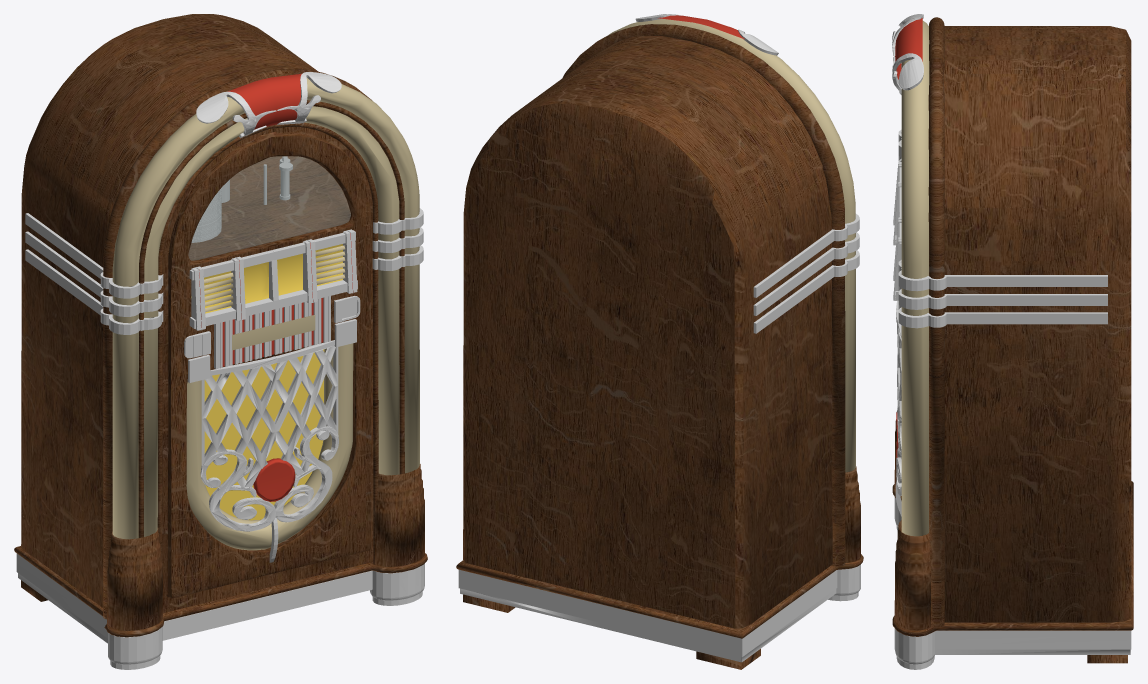
File: jukebox-bone.glb
3 views of the same model, side by side, from view 1: azimuth 30°, elevation 25°; view 2: azimuth 150°, elevation 25°; view 3: azimuth 270°, elevation 25° (orthographic). The views are drawn at different scales.
Visible parts, largest first — view 1: JukeboxBase, Metal, YellowLights, Glass, GoldPlate, RedLights; view 2: JukeboxBase, Metal, YellowLights; view 3: JukeboxBase, Metal, YellowLights, RedLights.
Part boxes in pixels (box(x1,y1,x2,y2)): JukeboxBase: box(14, 14, 427, 637); Metal: box(16, 72, 424, 669); YellowLights: box(112, 78, 419, 550); Glass: box(188, 156, 350, 260); GoldPlate: box(191, 244, 342, 520); RedLights: box(199, 73, 353, 501); JukeboxBase: box(456, 24, 863, 669); Metal: box(458, 14, 860, 662); YellowLights: box(608, 19, 855, 472); JukeboxBase: box(892, 17, 1133, 663); Metal: box(892, 14, 1131, 669); YellowLights: box(901, 20, 929, 536); RedLights: box(895, 18, 922, 457).
Bounding box in the file's own units: 92.05 × 152 × 59.56.
Materials: 6 (1 with a texture image).
